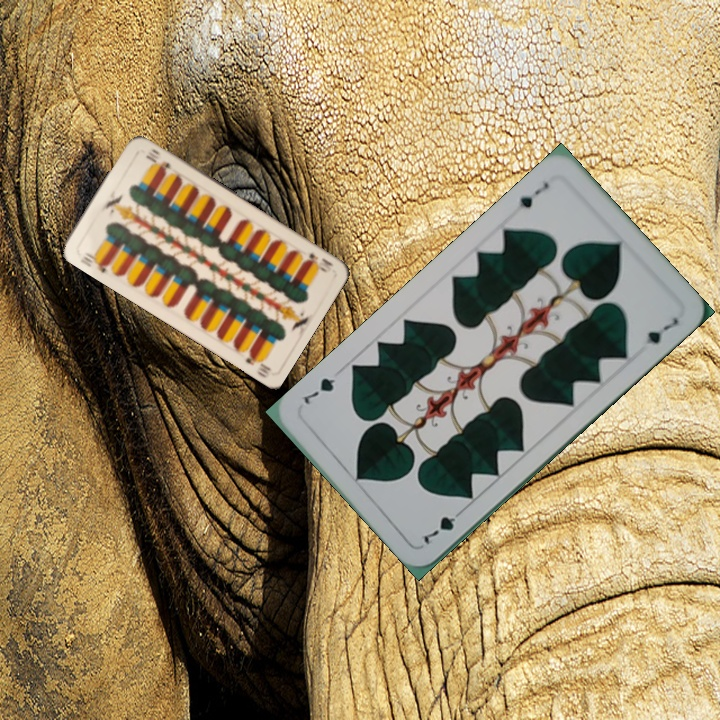E10: (76, 248, 112, 276), (302, 249, 336, 275)
G7: (419, 504, 467, 548), (509, 177, 552, 214)
